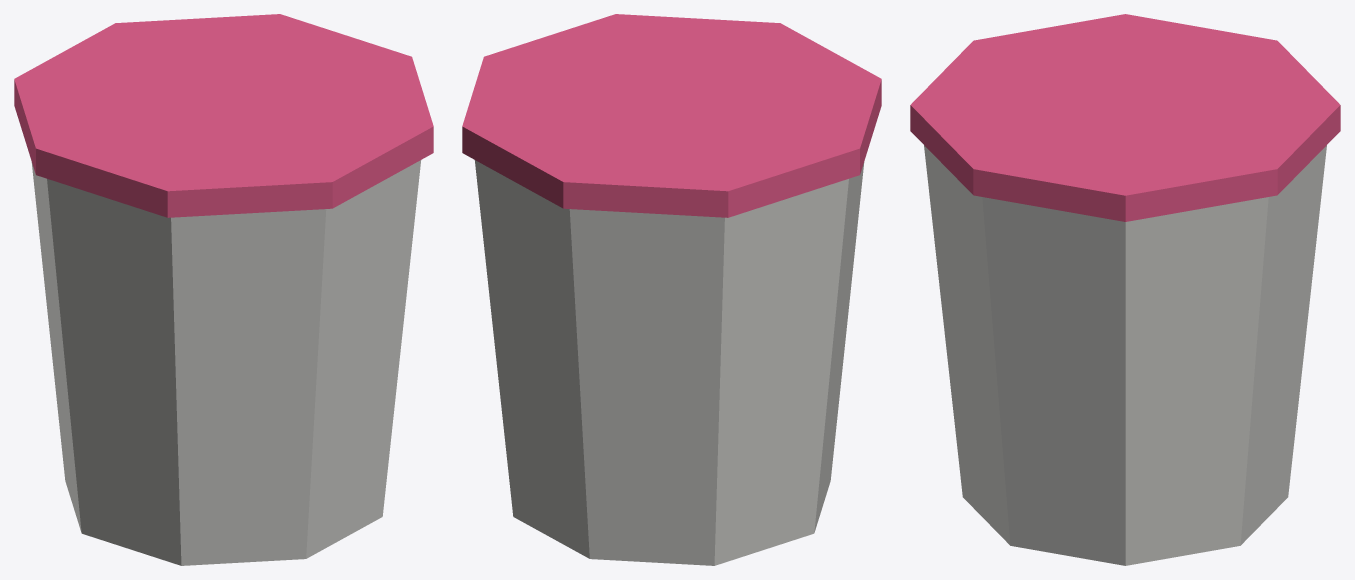
The model's file is prison_yogurt.glb.
3 views of the same model, side by side, from view 1: azimuth 30°, elevation 25°; view 2: azimuth 150°, elevation 25°; view 3: azimuth 270°, elevation 25° (orthographic).
Parts seen in each view (by area): view 1: cup_yogurt_cup, cup_yogurt_lid; view 2: cup_yogurt_cup, cup_yogurt_lid; view 3: cup_yogurt_cup, cup_yogurt_lid.
Boxes of the visible parts, x1,y1,x2,y2 form: cup_yogurt_cup: (31, 160, 421, 565); cup_yogurt_lid: (14, 14, 433, 217); cup_yogurt_cup: (474, 160, 864, 565); cup_yogurt_lid: (462, 14, 881, 217); cup_yogurt_cup: (924, 145, 1326, 565); cup_yogurt_lid: (910, 14, 1340, 221).
Bounding box in the file's own units: 0.074 × 0.0745 × 0.074.
